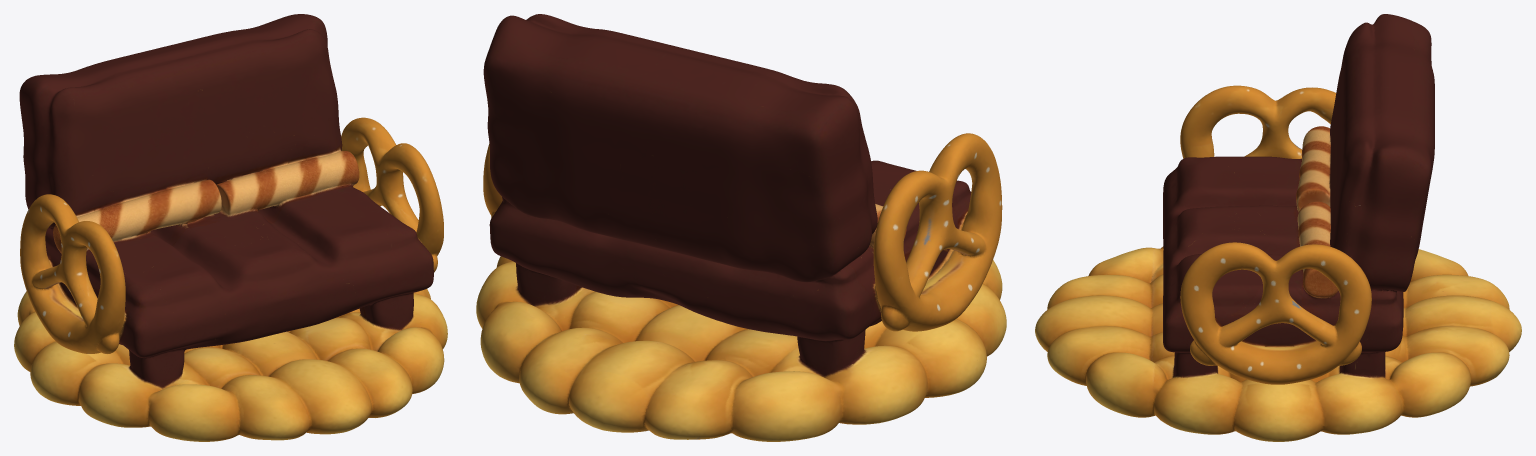
The model's file is pretzel-bench.glb.
3 views of the same model, side by side, from view 1: azimuth 30°, elevation 25°; view 2: azimuth 150°, elevation 25°; view 3: azimuth 270°, elevation 25° (orthographic). The views are drawn at different scales.
Bounding box in the file's own units: 1.75 × 1.15 × 1.88.
1 material, 1 textured.
